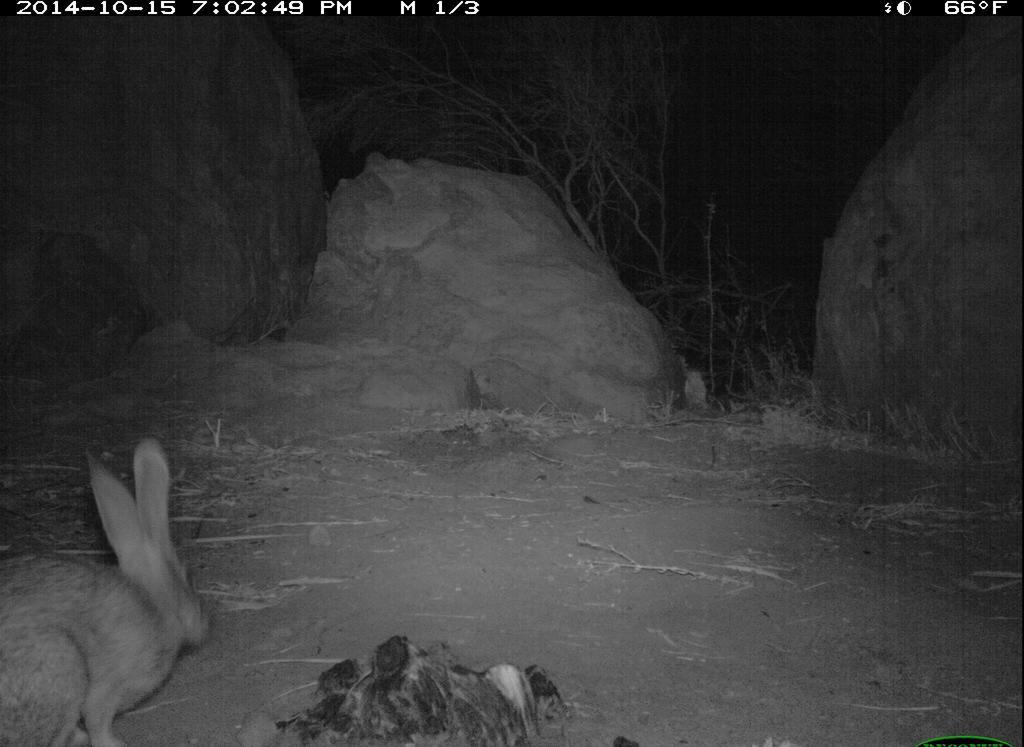rabbit: (4, 432, 228, 747)
